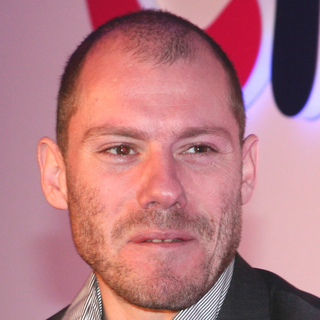eye: (94, 140, 147, 161), (173, 138, 221, 161)
